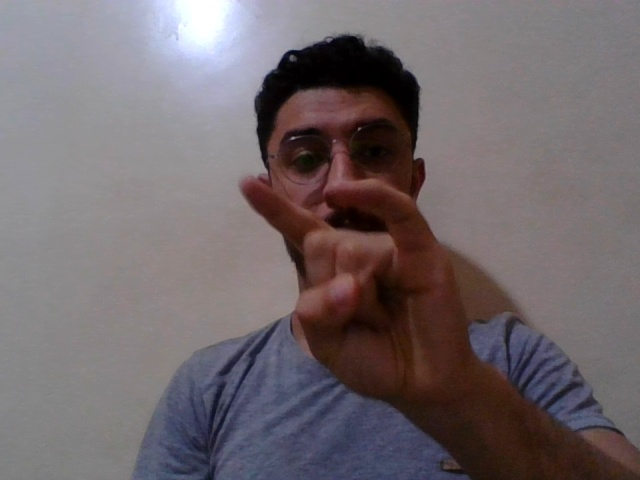I love You: (219, 146, 489, 440)
